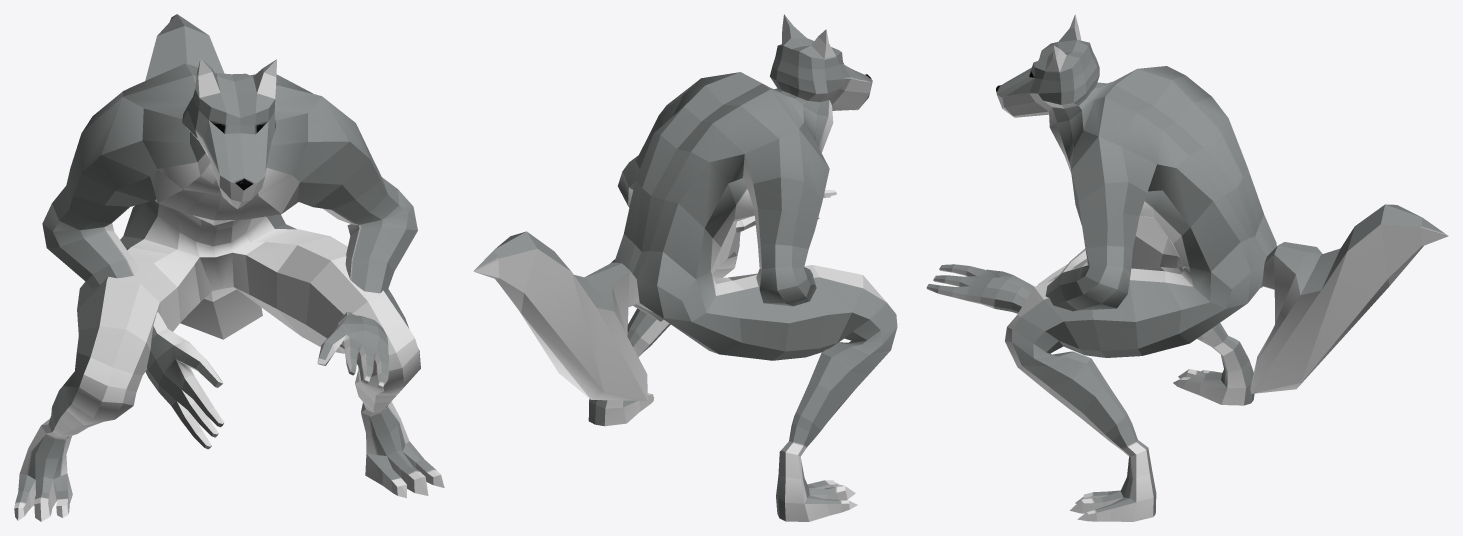
File: WolfAttack(75).obj
3 renders of one model, left to right at view 1: azimuth 30°, elevation 25°; view 2: azimuth 150°, elevation 25°; view 3: azimuth 270°, elevation 25°, orthographic. The views are drawn at different scales.
Visible parts, largest first — view 1: Box001; view 2: Box001; view 3: Box001.
Boxes of the visible parts, x1=… form: Box001: x1=14, y1=14, x2=444, y2=521; Box001: x1=473, y1=14, x2=897, y2=521; Box001: x1=926, y1=14, x2=1448, y2=521.
Bounding box in the file's own units: 78.58 × 103 × 119.
